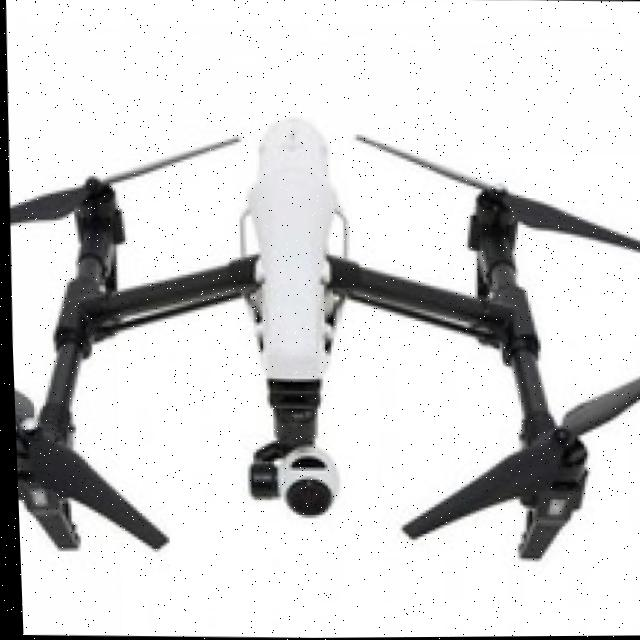drones: (3, 114, 640, 589)
